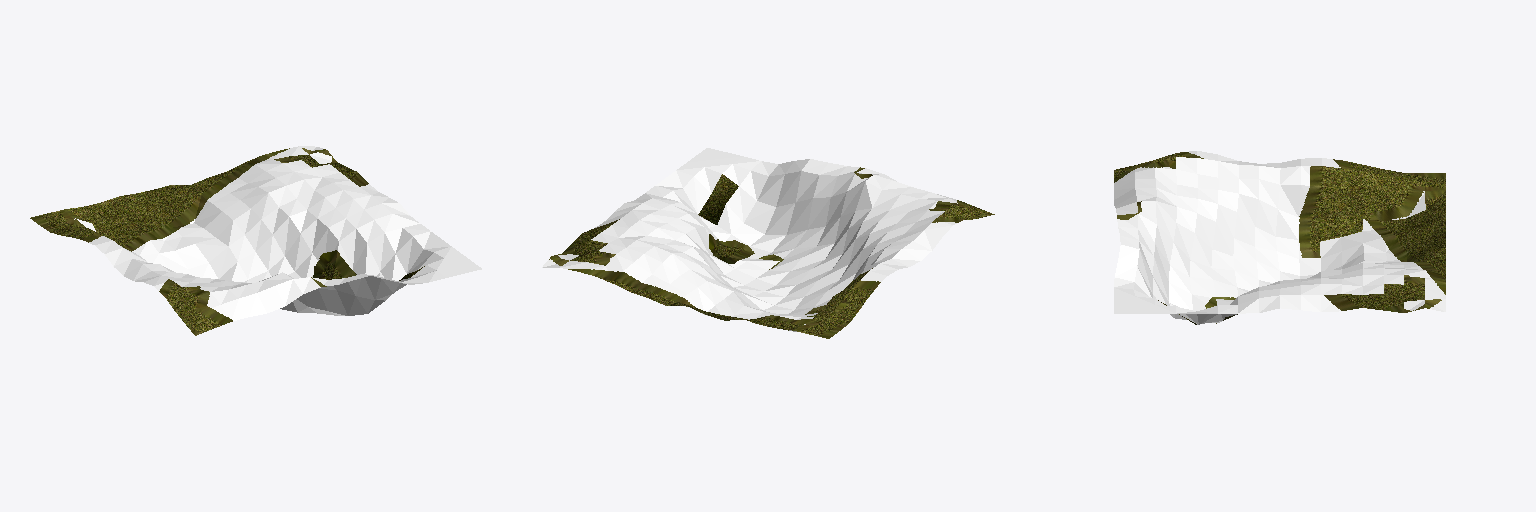
3 views of the same model, side by side, from view 1: azimuth 30°, elevation 25°; view 2: azimuth 150°, elevation 25°; view 3: azimuth 270°, elevation 25° (orthographic).
Visible parts, largest first — view 1: Plane_Plane.001; view 2: Plane_Plane.001; view 3: Plane_Plane.001.
Boxes of the visible parts, box(x1,y1,x2,y2) form: Plane_Plane.001: box(30, 146, 481, 335); Plane_Plane.001: box(542, 148, 994, 338); Plane_Plane.001: box(1114, 151, 1445, 324).
Size of the model in its own units: 57.82 by 14.6 by 57.88.
Materials: 1 (1 with a texture image).